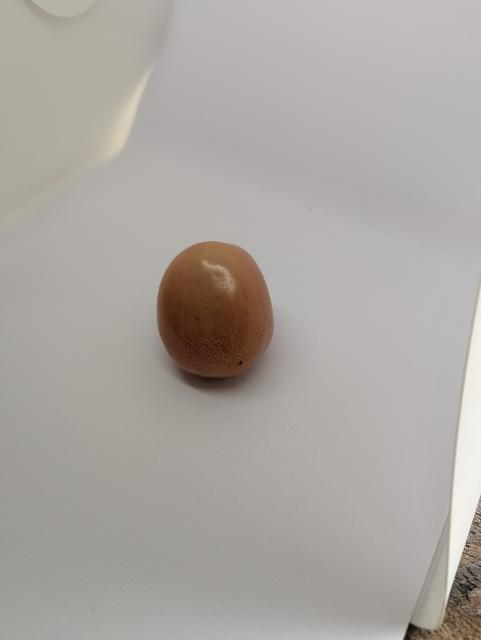turning: (146, 235, 286, 392)
